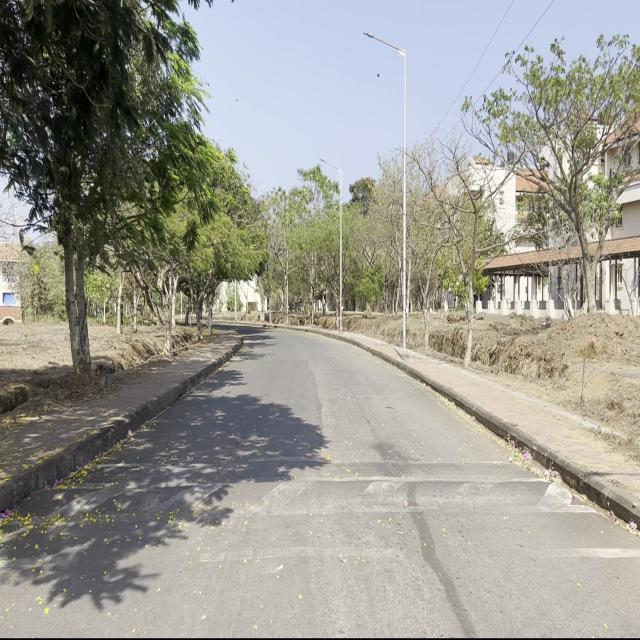Road: (3, 324, 636, 634)
